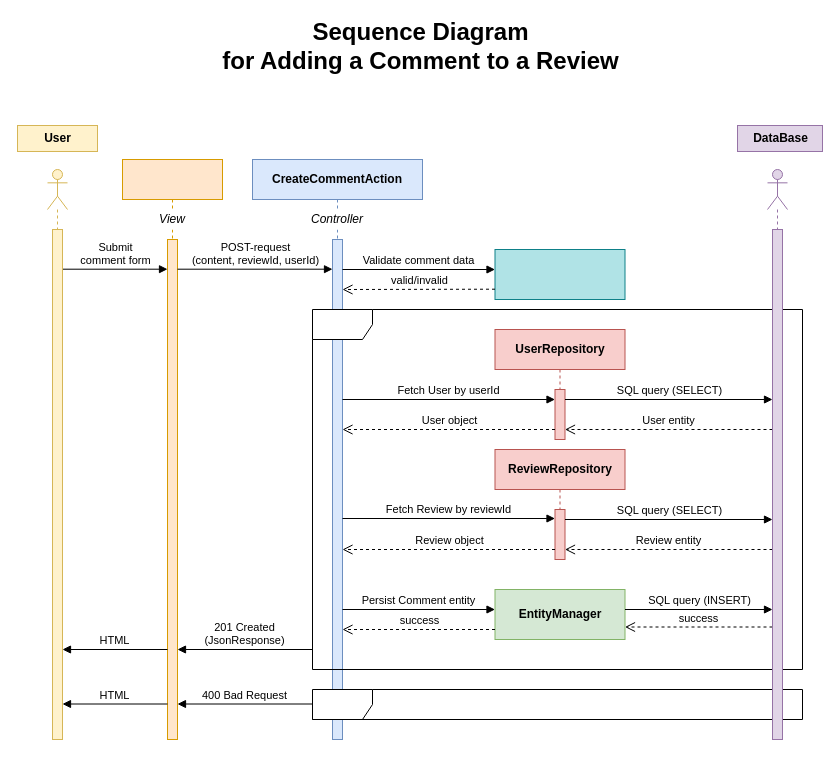
The diagram is 840 pixels wide and 757 high, and some of its shapes have lost their labels. The box of each missing label's shape, as (x1, y1, x2, y2) in pixels:
else: (312, 688, 802, 720)
Frontend: (122, 158, 222, 740)
if valid: (312, 308, 802, 670)
Validator: (494, 248, 625, 300)
